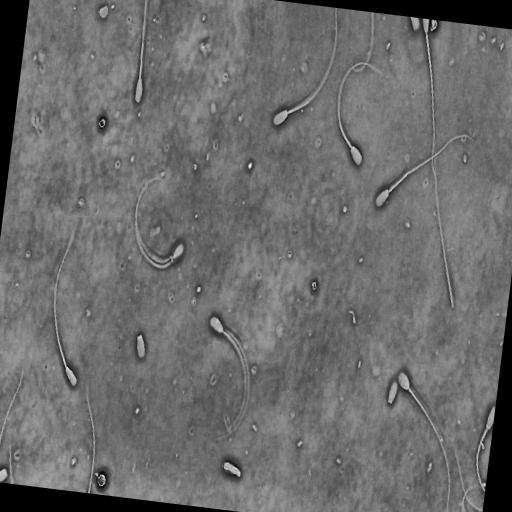coiled-tail: (224, 463, 240, 476)
dirt-particles: (96, 470, 107, 488), (97, 3, 109, 19), (97, 115, 107, 131), (429, 20, 438, 33), (311, 279, 318, 292)
loose-head: (135, 331, 148, 362), (387, 379, 400, 406)
loose-tail: (433, 146, 458, 318), (0, 363, 26, 452), (452, 440, 483, 512), (85, 379, 98, 493)
normal: (373, 130, 476, 210), (271, 8, 338, 128), (397, 370, 451, 510), (208, 314, 251, 442), (51, 214, 82, 390), (336, 60, 386, 169), (421, 19, 437, 159), (475, 404, 496, 495), (132, 0, 149, 106), (221, 459, 244, 480)
